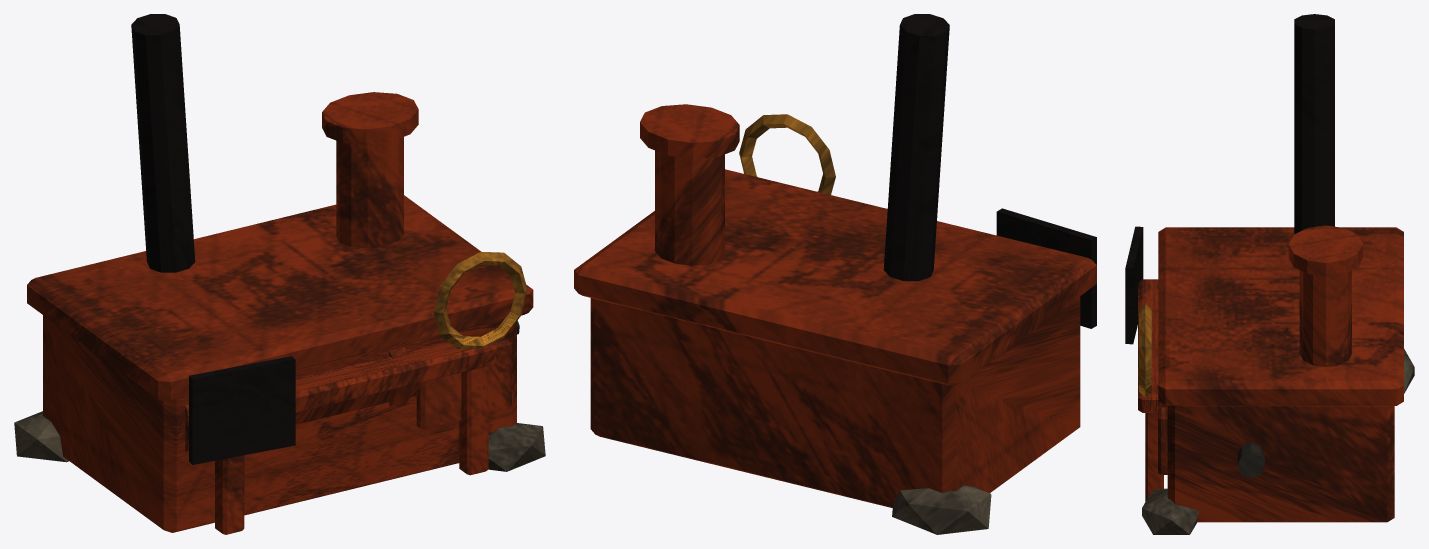
The model's file is spent-boiler-west.glb.
3 renders of one model, left to right at view 1: azimuth 30°, elevation 25°; view 2: azimuth 150°, elevation 25°; view 3: azimuth 270°, elevation 25°, orthographic. The views are drawn at different scales.
Parts seen in each view (by area): view 1: spent-boiler-west; view 2: spent-boiler-west; view 3: spent-boiler-west.
Part boxes in pixels (left/top/right/bottom): spent-boiler-west: left=14, top=14, right=545, bottom=534; spent-boiler-west: left=574, top=14, right=1096, bottom=534; spent-boiler-west: left=1125, top=14, right=1414, bottom=534.
Bounding box in the file's own units: 5.41 × 5.52 × 3.64.
Materials: 1 (1 with a texture image).
